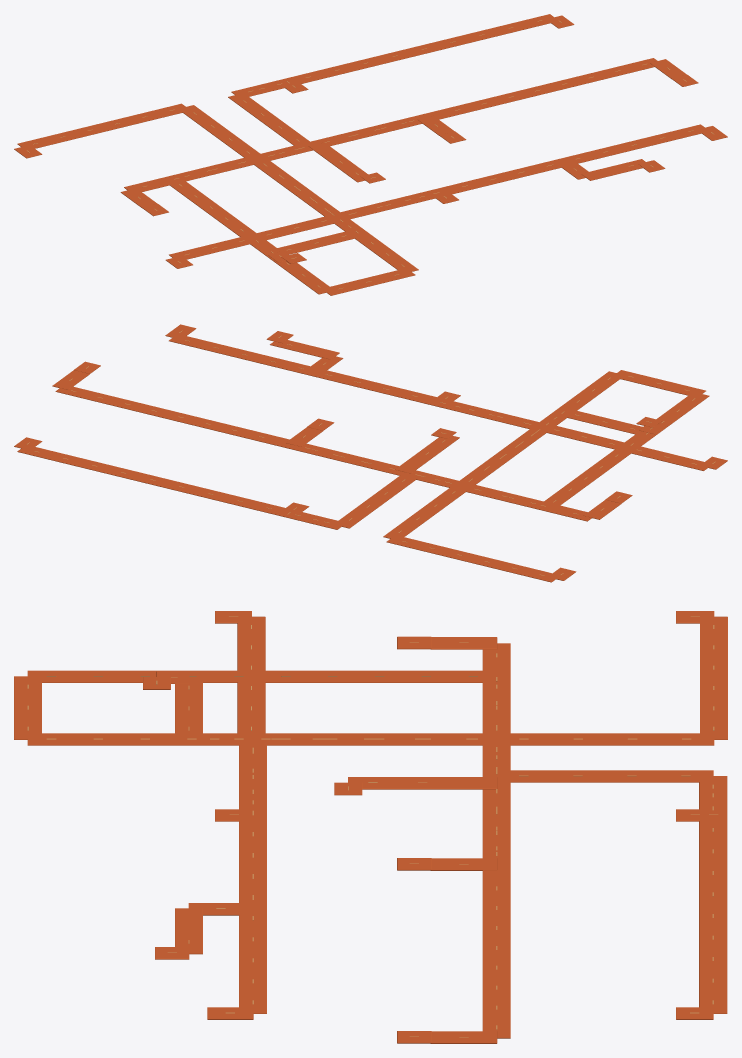
File: bike-trail.gltf
3 views of the same model, one above another, from view 1: azimuth 30°, elevation 25°; view 2: azimuth 150°, elevation 25°; view 3: azimuth 270°, elevation 25° (orthographic). The views are drawn at different scales.
Visible parts, largest first — view 1: trail-032_pavement, trail-019_pavement, trail-016_pavement, trail-013_pavement, trail-037_pavement, trail-040_pavement, trail-038_pavement, trail-015_pavement, trail-017_pavement, trail-020_pavement, trail-014_pavement, trail-021_pavement (+7 smaller); view 2: trail-019_pavement, trail-016_pavement, trail-032_pavement, trail-013_pavement, trail-015_pavement, trail-037_pavement, trail-040_pavement, trail-038_pavement, trail-017_pavement, trail-024_pavement, trail-020_pavement, trail-034_pavement (+7 smaller); view 3: trail-016_pavement, trail-015_pavement, trail-013_pavement, trail-032_pavement, trail-027_pavement, trail-019_pavement, trail-040_pavement, trail-037_pavement, trail-034_pavement, trail-038_pavement, trail-017_pavement, trail-021_pavement (+12 smaller).
Part boxes in pixels (x1,y1,x2,y2): trail-032_pavement: [261, 58, 657, 160]; trail-019_pavement: [341, 124, 708, 218]; trail-016_pavement: [231, 14, 553, 97]; trail-013_pavement: [169, 181, 333, 294]; trail-037_pavement: [17, 103, 189, 150]; trail-040_pavement: [169, 216, 339, 260]; trail-038_pavement: [179, 105, 264, 160]; trail-015_pavement: [255, 165, 418, 272]; trail-017_pavement: [228, 93, 309, 145]; trail-020_pavement: [250, 157, 330, 214]; trail-014_pavement: [322, 268, 415, 295]; trail-021_pavement: [308, 142, 367, 182]; trail-019_pavement: [169, 334, 545, 428]; trail-016_pavement: [17, 445, 345, 529]; trail-032_pavement: [55, 386, 458, 487]; trail-013_pavement: [540, 392, 709, 508]; trail-015_pavement: [461, 371, 622, 487]; trail-037_pavement: [386, 536, 559, 582]; trail-040_pavement: [542, 424, 711, 470]; trail-038_pavement: [383, 484, 469, 540]; trail-017_pavement: [334, 472, 417, 528]; trail-024_pavement: [462, 485, 591, 521]; trail-020_pavement: [455, 431, 532, 487]; trail-034_pavement: [289, 444, 459, 488]; trail-016_pavement: [699, 776, 727, 1013]; trail-015_pavement: [27, 733, 496, 745]; trail-013_pavement: [27, 670, 496, 682]; trail-032_pavement: [482, 744, 510, 1038]; trail-027_pavement: [239, 739, 266, 908]; trail-019_pavement: [239, 740, 266, 1013]; trail-040_pavement: [237, 616, 265, 738]; trail-037_pavement: [700, 616, 727, 739]; trail-034_pavement: [482, 739, 510, 864]; trail-038_pavement: [497, 733, 714, 745]; trail-017_pavement: [497, 770, 713, 782]; trail-021_pavement: [348, 777, 497, 789].
Bounding box in the file's own units: 65.5 × 0.122 × 45.7.
Materials: 2 (2 with a texture image).
